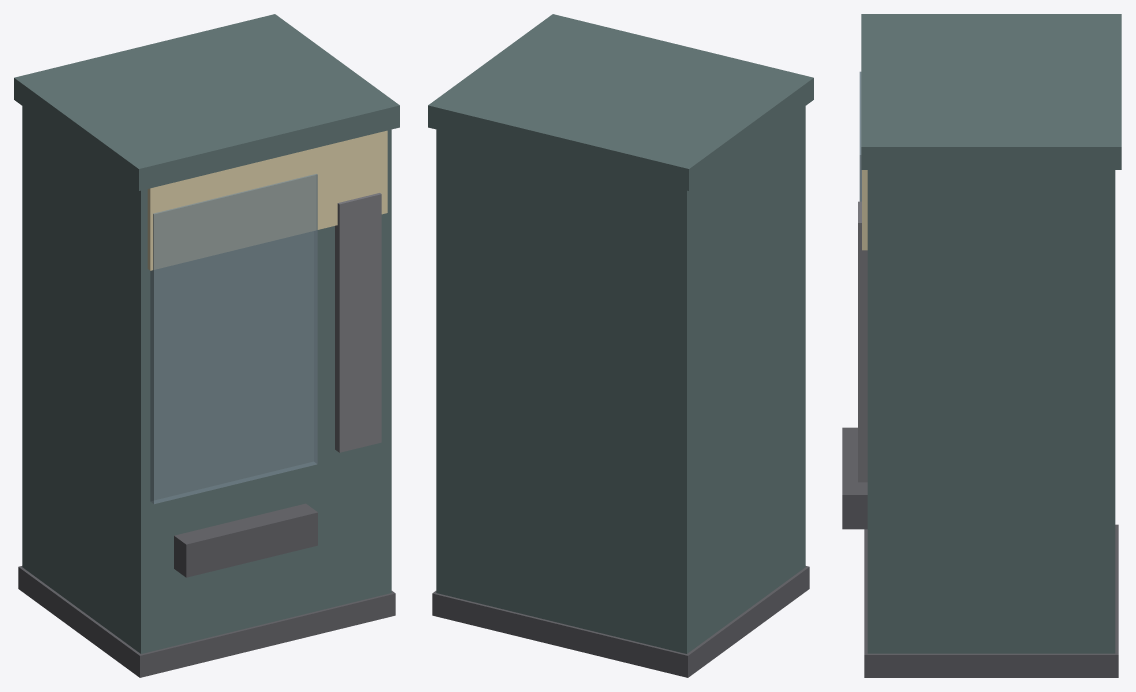
File: PRP_P2_Vending_Hall_A.obj
3 renders of one model, left to right at view 1: azimuth 30°, elevation 25°; view 2: azimuth 150°, elevation 25°; view 3: azimuth 270°, elevation 25°, orthographic. The views are drawn at different scales.
Parts seen in each view (by area): view 1: cabinet, display_glass, cabinet_top, header_panel, button_column, plinth, tray; view 2: cabinet, cabinet_top, plinth; view 3: cabinet, cabinet_top, plinth, button_column, tray, header_panel.
Boxes of the visible parts, x1,y1,x2,y2 form: cabinet: (22,106,391,653); display_glass: (150,174,317,504); cabinet_top: (14,14,399,190); header_panel: (147,130,387,270); button_column: (335,193,381,452); plinth: (18,566,395,677); tray: (174,503,317,577); cabinet: (436,106,805,653); cabinet_top: (428,14,813,190); plinth: (432,566,809,677); cabinet: (867,170,1115,653); cabinet_top: (861,14,1121,169); plinth: (864,524,1118,677); button_column: (858,201,867,482); tray: (842,427,867,529); header_panel: (862,170,867,250).
Bounding box in the file's own units: 0.99 × 1.85 × 0.88.
